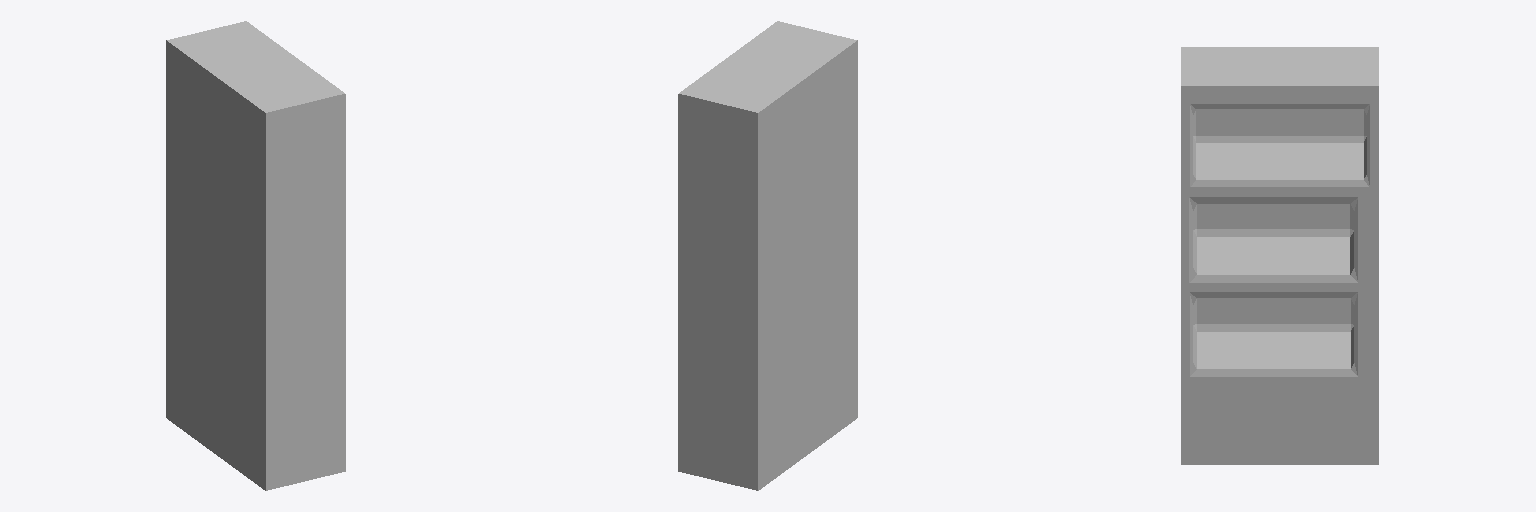
The model's file is lange keuken .obj.
3 renders of one model, left to right at view 1: azimuth 30°, elevation 25°; view 2: azimuth 150°, elevation 25°; view 3: azimuth 270°, elevation 25°, orthographic.
Parts seen in each view (by area): view 1: Cube.008_Cube.010; view 2: Cube.008_Cube.010; view 3: Cube.008_Cube.010.
Boxes of the visible parts, x1,y1,x2,y2 form: Cube.008_Cube.010: [166, 21, 345, 490]; Cube.008_Cube.010: [678, 21, 857, 490]; Cube.008_Cube.010: [1181, 47, 1378, 464].
Size of the model in its own units: 1.15 by 5.19 by 2.47.